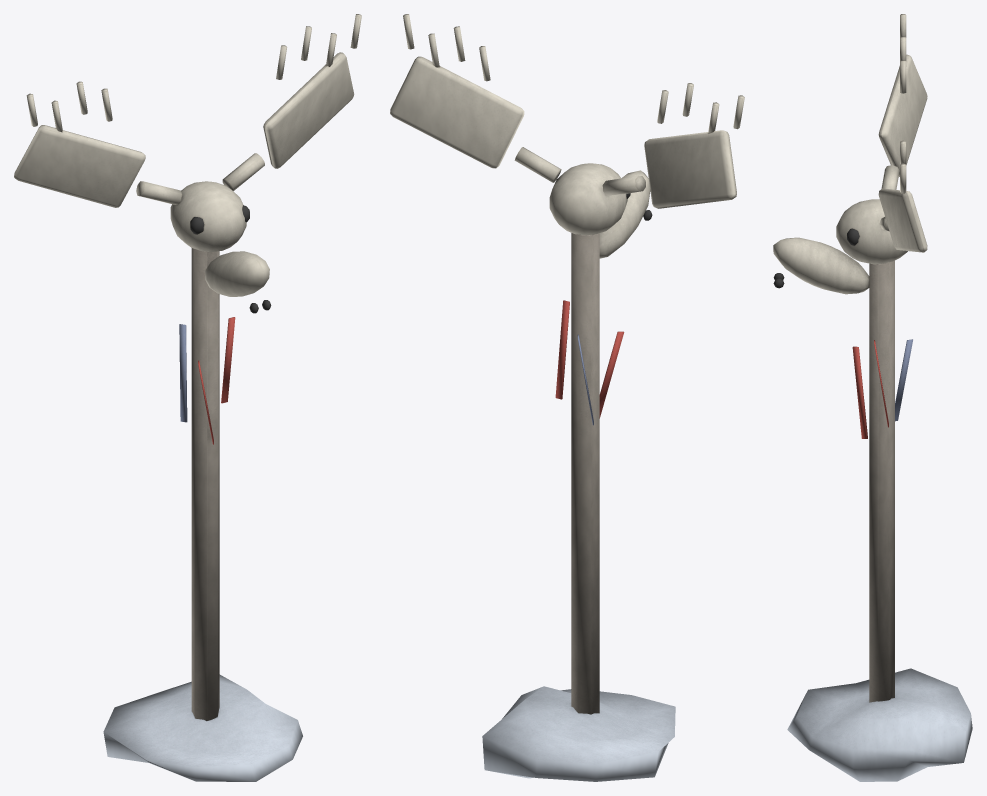
Rendered from skull_stake.glb.
3 views of the same model, side by side, from view 1: azimuth 30°, elevation 25°; view 2: azimuth 150°, elevation 25°; view 3: azimuth 270°, elevation 25° (orthographic). The views are drawn at different scales.
Parts seen in each view (by area): view 1: skull_stake; view 2: skull_stake; view 3: skull_stake.
Part boxes in pixels (x1,y1,x2,y2): skull_stake: (14, 14, 361, 781); skull_stake: (390, 14, 744, 781); skull_stake: (773, 14, 972, 781).
Size of the model in its own units: 1.36 by 2.73 by 0.7393.
Materials: 1 (1 with a texture image).
